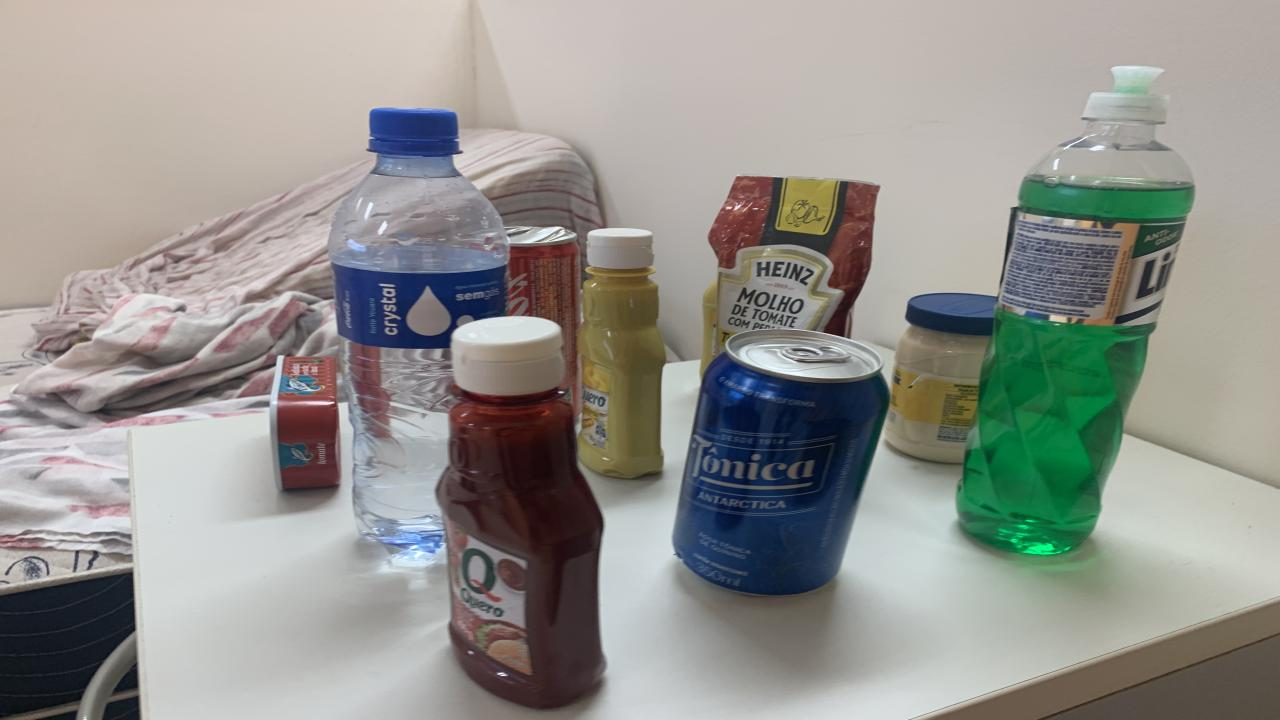Coke-Drinks: (505, 227, 582, 411)
Detergent-Cleanup_Items: (958, 68, 1195, 555)
Ketchup-Pantry_Items: (435, 317, 605, 709)
Mayonnaise-Pantry_Items: (885, 292, 998, 463)
Mustard-Pantry_Items: (578, 227, 665, 478)
Tomato_Sauce-Pantry_Items: (710, 176, 878, 352)
Tonic-Drinks: (672, 330, 888, 594)
Tuna_Can-Pantry_Items: (270, 356, 340, 489)
Water_Bottle-Drinks: (328, 109, 510, 561)
